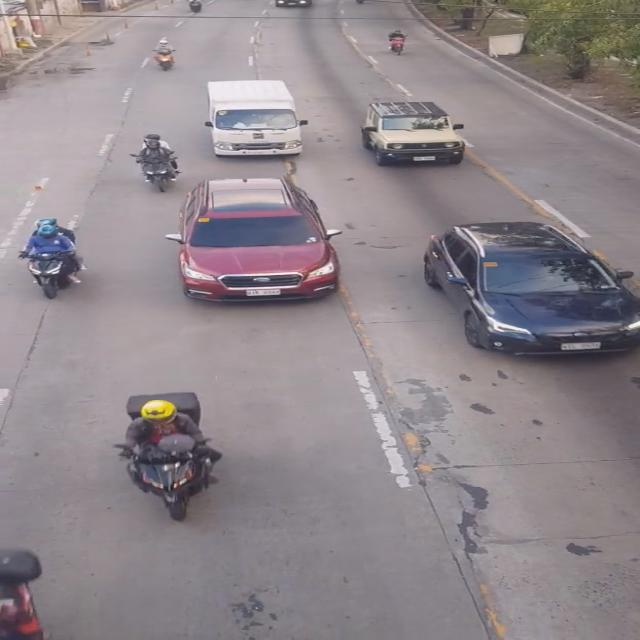car: (424, 220, 640, 356), (178, 174, 346, 305), (360, 96, 464, 168)
motorbike: (118, 393, 220, 528), (0, 545, 50, 639), (24, 217, 82, 297), (138, 134, 179, 198), (154, 36, 177, 71)
truck: (205, 78, 308, 162)
